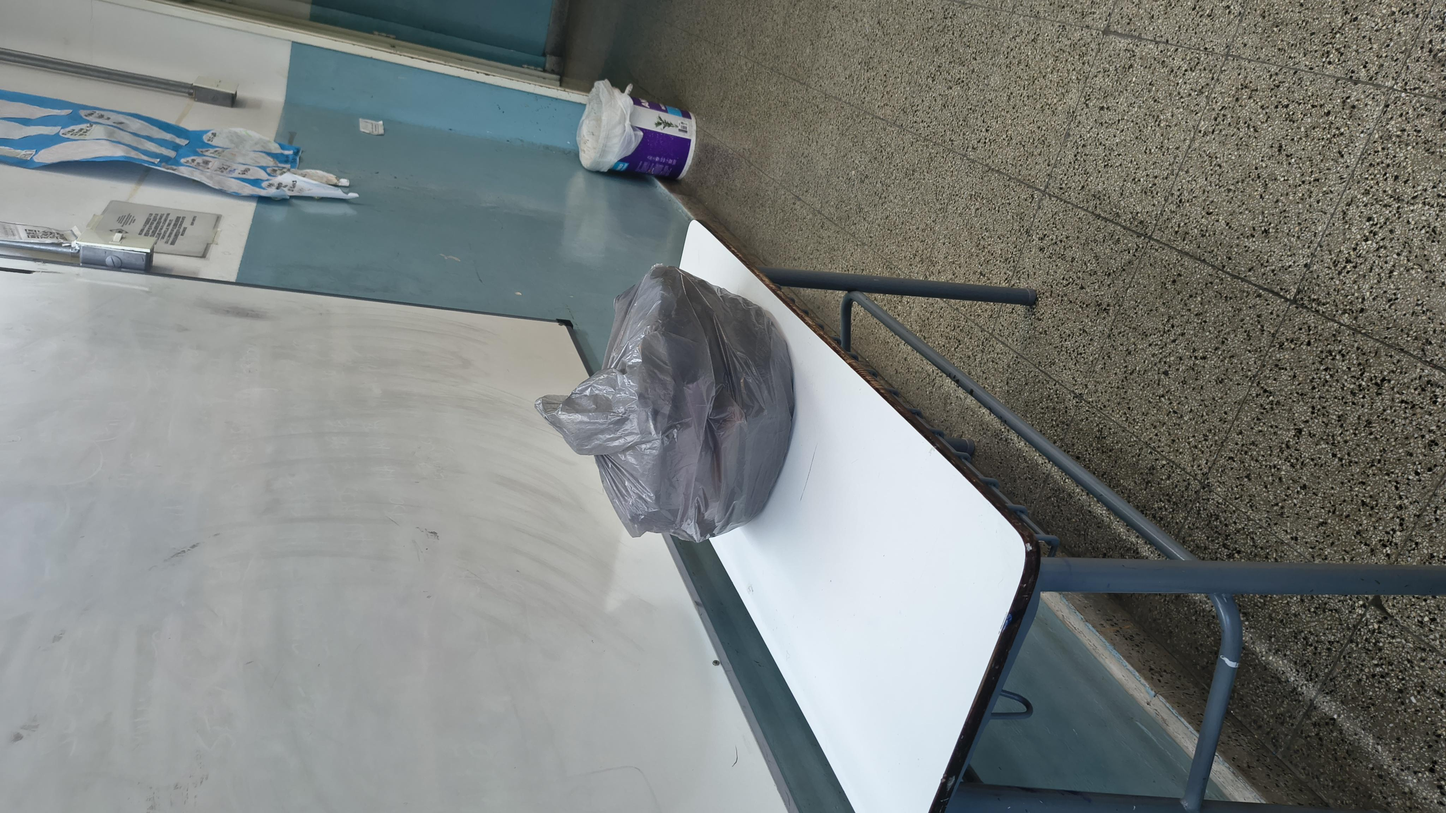Garbage: (408, 290, 1017, 466)
